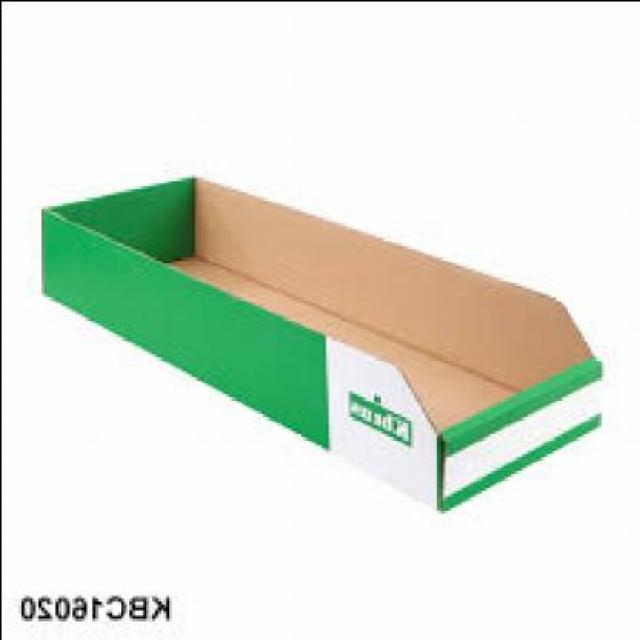CARDBOARD: (43, 174, 603, 509)
